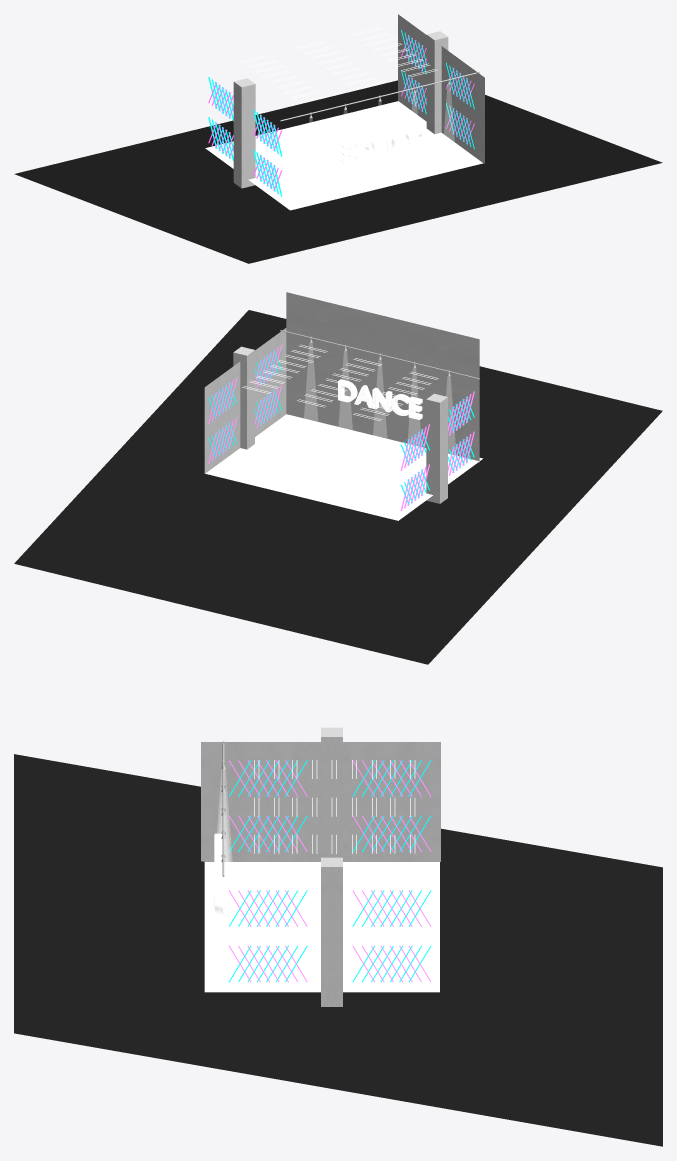
Rendered from stage-studio.glb.
3 views of the same model, one above another, from view 1: azimuth 30°, elevation 25°; view 2: azimuth 150°, elevation 25°; view 3: azimuth 270°, elevation 25° (orthographic). The views are drawn at different scales.
Parts seen in each view (by area): view 1: Plane (1), Plane (×2), Cube (1), Cube, DANCE_Text, Beam (3), Beam (1), Beam, Beam (2), Beam (4), Cylinder (54); view 2: Plane (1) (×2), Plane (×2), Cube (1), Cube, DANCE_Text, Beam (2), Beam (1), Beam, Beam (4); view 3: Plane (1), Plane (×2), Cube, Cube (1), Beam (1), Beam (2), DANCE_Text.
Part boxes in pixels (bbox=[...]): Plane (1): bbox=[14, 80, 662, 263]; Plane (×2): bbox=[205, 14, 484, 210]; Cube (1): bbox=[233, 78, 255, 188]; Cube: bbox=[426, 31, 448, 134]; DANCE_Text: bbox=[340, 123, 425, 164]; Beam (3): bbox=[304, 118, 317, 201]; Beam (1): bbox=[442, 85, 455, 167]; Beam: bbox=[373, 102, 386, 184]; Beam (2): bbox=[407, 93, 421, 176]; Beam (4): bbox=[338, 110, 352, 193]; Cylinder (54): bbox=[280, 72, 479, 121]; Plane (1) (×2): bbox=[14, 292, 662, 664]; Plane (×2): bbox=[204, 328, 482, 520]; Cube (1): bbox=[426, 393, 447, 503]; Cube: bbox=[233, 346, 254, 449]; DANCE_Text: bbox=[338, 379, 422, 419]; Beam (2): bbox=[338, 351, 352, 434]; Beam (1): bbox=[304, 343, 317, 425]; Beam: bbox=[373, 360, 386, 442]; Beam (4): bbox=[408, 368, 420, 450]; Plane (1): bbox=[14, 754, 662, 1146]; Plane (×2): bbox=[201, 742, 440, 992]; Cube: bbox=[321, 857, 342, 1006]; Cube (1): bbox=[321, 727, 342, 857]; Beam (1): bbox=[213, 862, 233, 977]; Beam (2): bbox=[213, 839, 233, 953]; DANCE_Text: bbox=[214, 833, 223, 914].
Size of the model in its own units: 30 by 12.45 by 29.46.
Materials: 10 (1 with a texture image).
